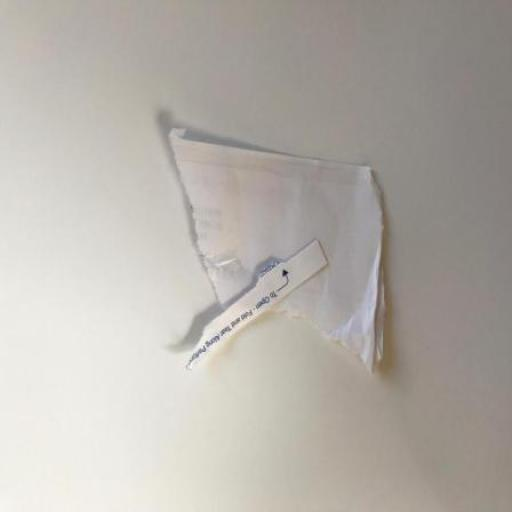paper: (166, 125, 391, 376)
